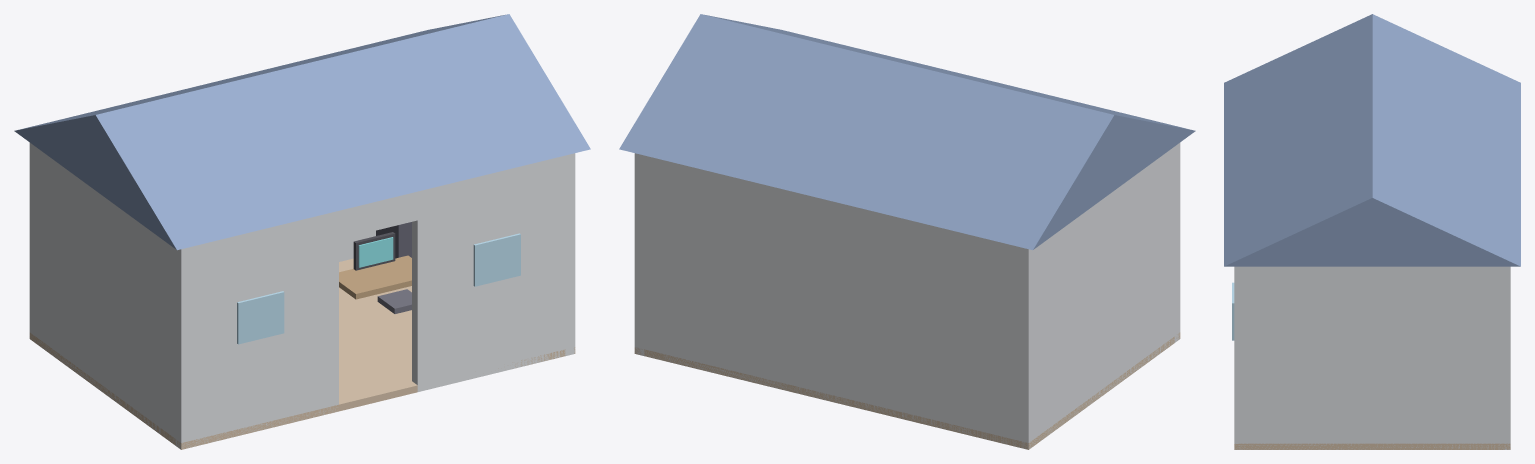
The model's file is oficina.glb.
3 renders of one model, left to right at view 1: azimuth 30°, elevation 25°; view 2: azimuth 150°, elevation 25°; view 3: azimuth 270°, elevation 25°, orthographic. The views are drawn at different scales.
Visible parts, largest first — view 1: Techo, Pared_izq, Pared_del_a, Pared_del_b, Suelo, Pared_dintel, Pared_der, Escritorio.002, Ventana, Ventana.001, Pared_tras, Pantalla.002 (+2 smaller); view 2: Pared_tras, Techo, Pared_izq, Suelo, Pared_der, Pared_del_a; view 3: Techo, Pared_der, Pared_tras, Suelo, Pared_del_b.
Part boxes in pixels (x1,y1,x2,y2): Techo: [14, 14, 590, 250]; Pared_izq: [29, 144, 190, 449]; Pared_del_a: [175, 211, 338, 448]; Pared_del_b: [412, 155, 575, 391]; Suelo: [29, 258, 575, 449]; Pared_dintel: [339, 191, 417, 239]; Pared_der: [565, 153, 575, 355]; Escritorio.002: [339, 255, 411, 299]; Ventana: [237, 291, 284, 344]; Ventana.001: [473, 233, 520, 286]; Pared_tras: [29, 143, 375, 336]; Pantalla.002: [358, 237, 393, 267]; Pared_tras: [634, 153, 1034, 448]; Techo: [619, 14, 1195, 250]; Pared_izq: [1019, 143, 1180, 448]; Suelo: [634, 332, 1180, 449]; Pared_der: [634, 154, 644, 355]; Pared_del_a: [1174, 143, 1180, 342]; Techo: [1224, 14, 1520, 266]; Pared_der: [1234, 266, 1510, 449]; Pared_tras: [1500, 266, 1510, 449]; Suelo: [1234, 443, 1510, 449]; Pared_del_b: [1234, 267, 1244, 449].
Bounding box in the file's own units: 6.3 × 4.1 × 4.3.
